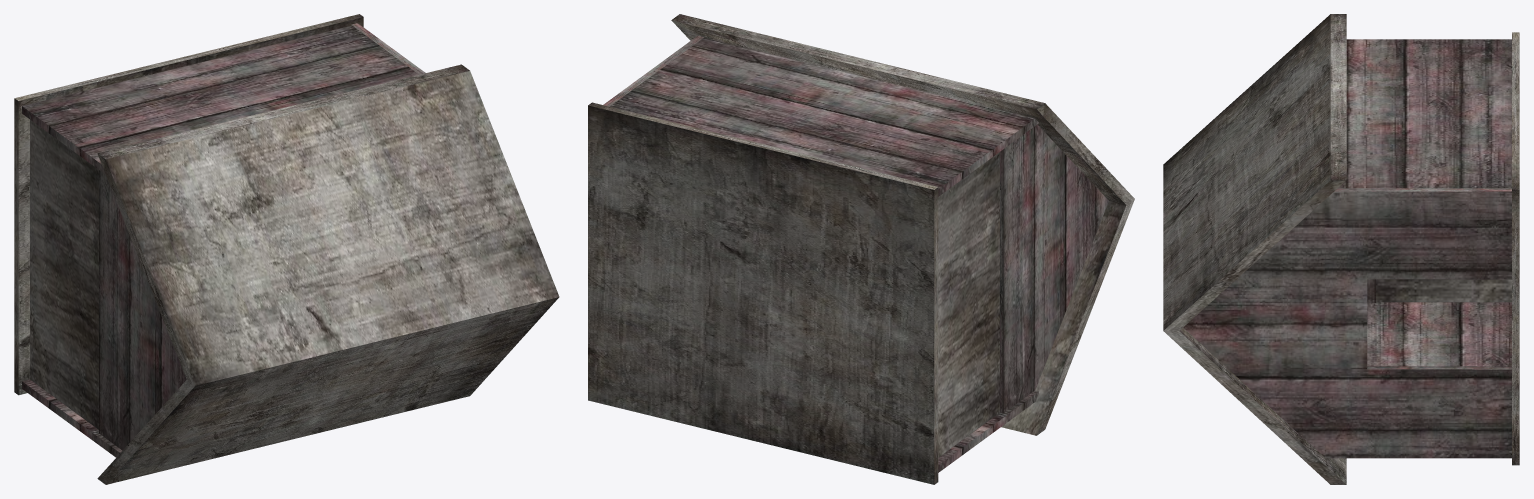
Rendered from prop_doghouse2.glb.
The picture shows the model from 3 angles, left to right: view 1: azimuth 30°, elevation 25°; view 2: azimuth 150°, elevation 25°; view 3: azimuth 270°, elevation 25°; orthographic projection. The views are drawn at different scales.
Bounding box in the file's own units: 48.34 × 41.26 × 43.76.
1 material, 1 textured.
